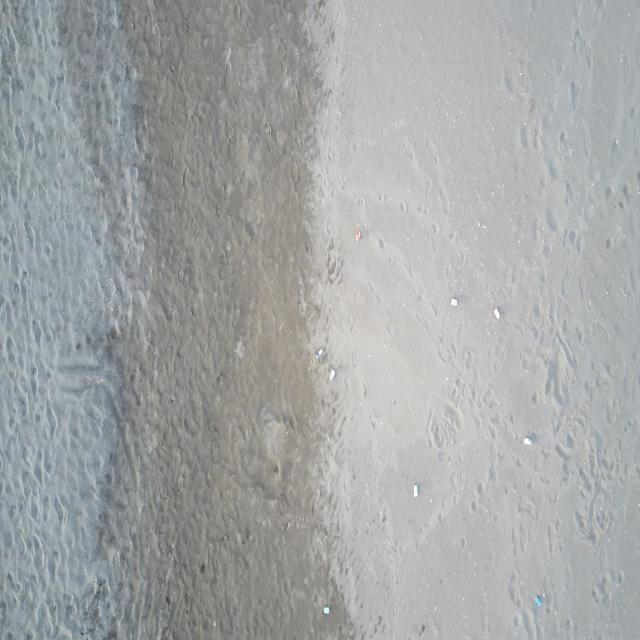Garbage: (533, 593, 543, 606), (313, 347, 323, 359), (492, 307, 500, 319), (328, 367, 335, 380), (412, 483, 419, 496), (449, 296, 457, 306), (355, 224, 360, 240), (524, 435, 532, 444), (323, 604, 328, 613)
